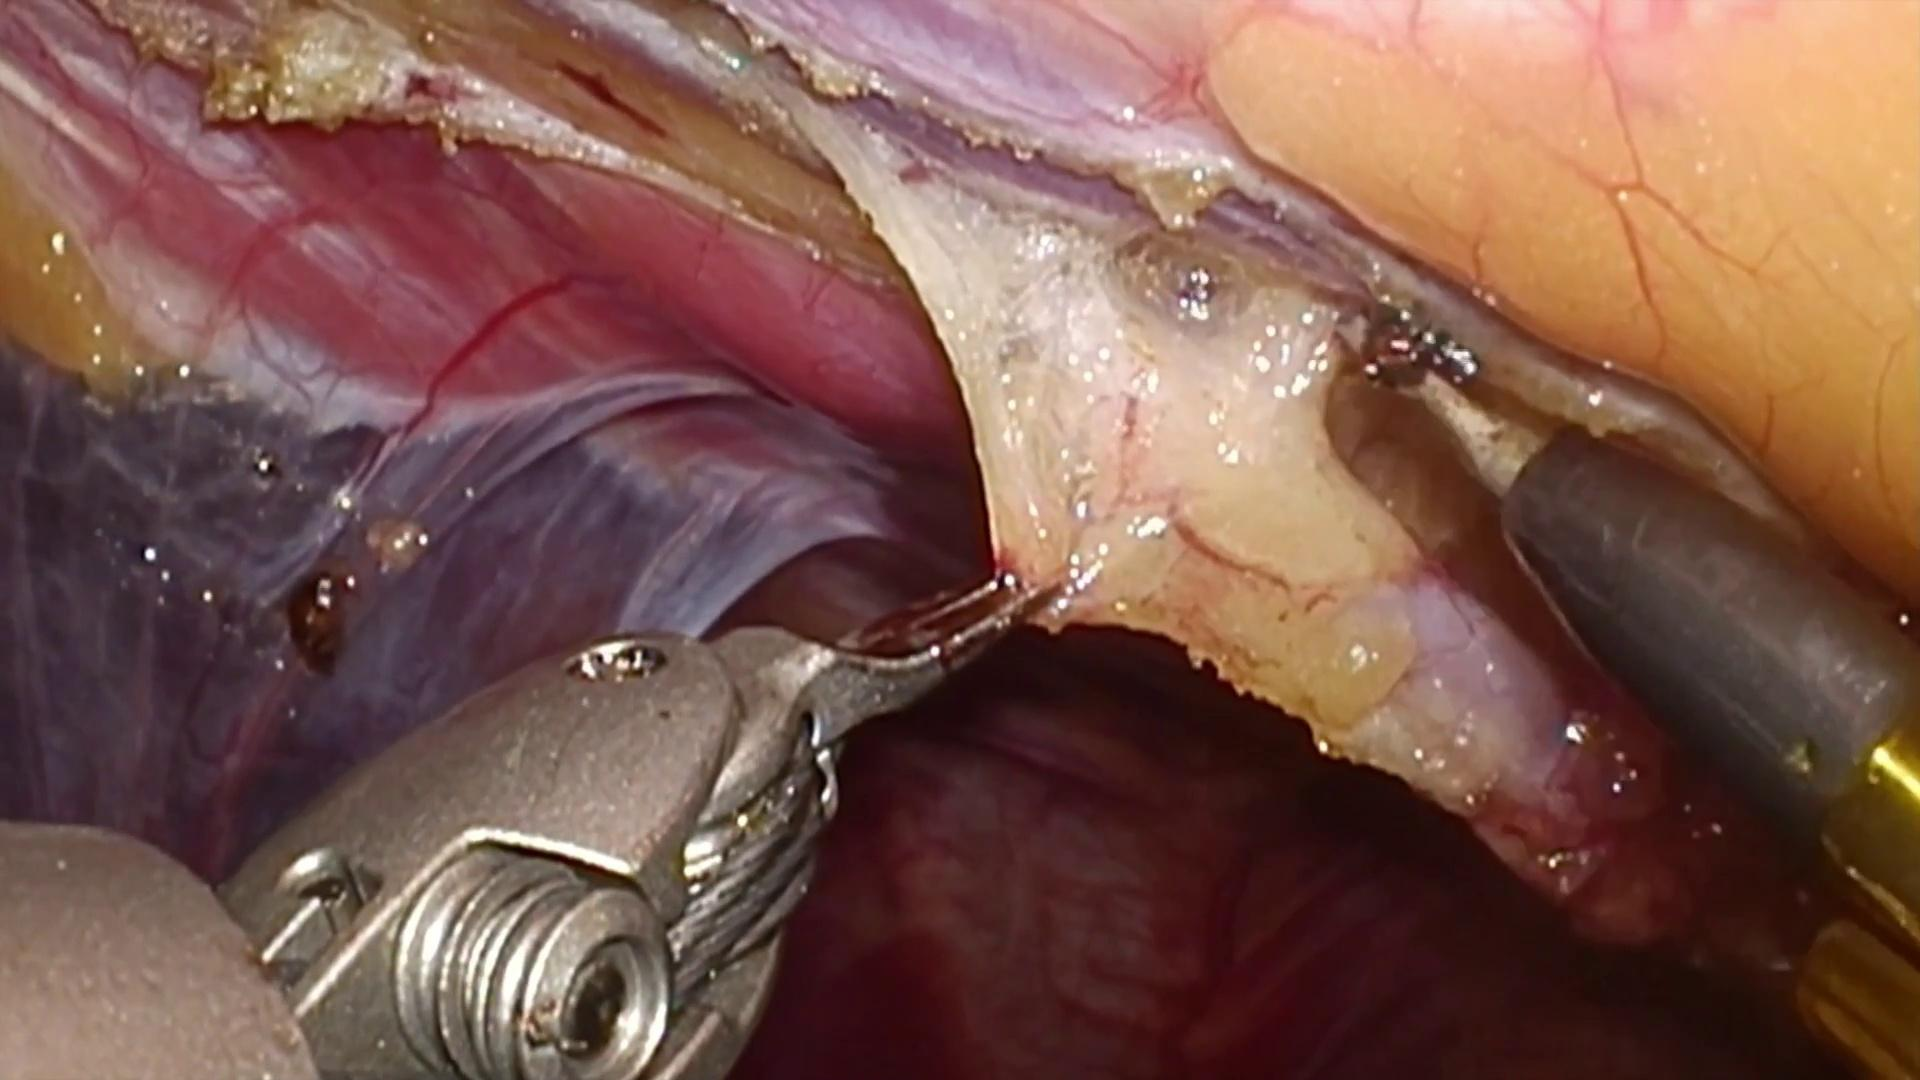Cautery_Spatula: (1352, 310, 1915, 815)
Debakey: (728, 554, 1047, 770)
